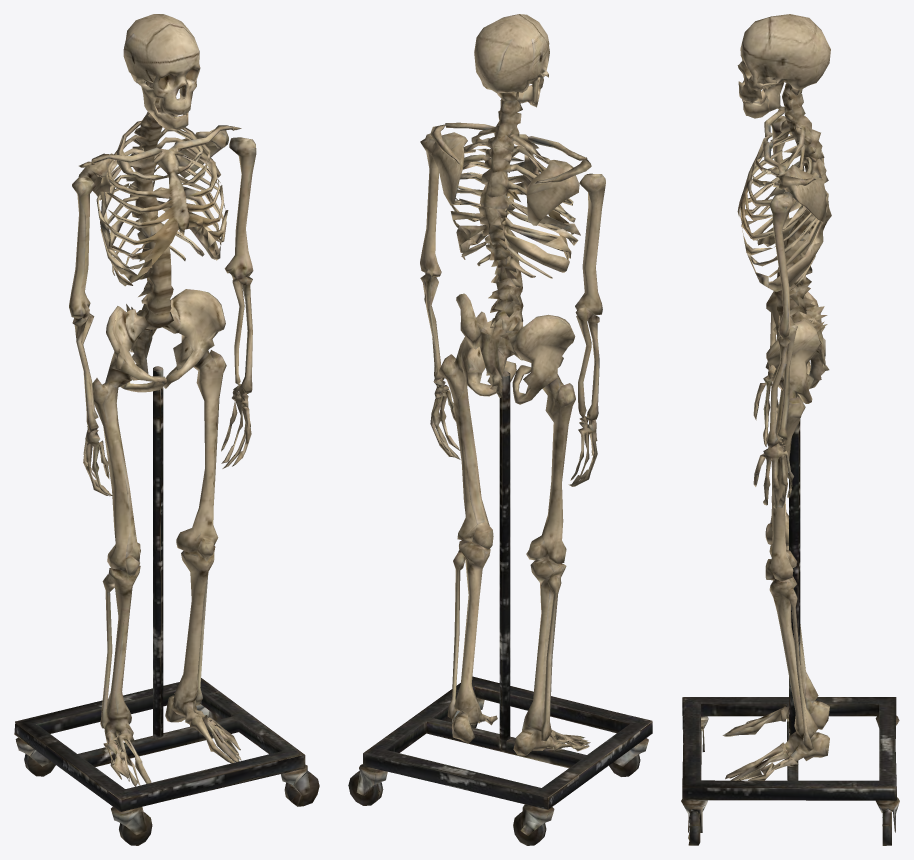
The model's file is prop_skeleton.glb.
3 renders of one model, left to right at view 1: azimuth 30°, elevation 25°; view 2: azimuth 150°, elevation 25°; view 3: azimuth 270°, elevation 25°, orthographic.
Size of the model in its own units: 0.2622 by 0.9507 by 0.2417.
1 material, 1 textured.
